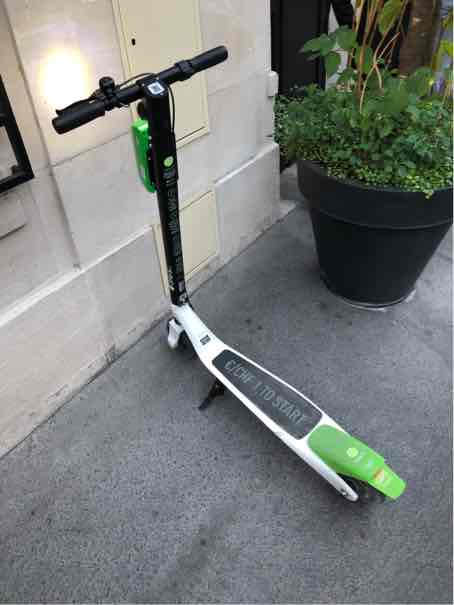scooter: (40, 44, 409, 523)
